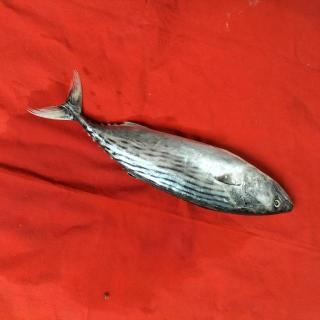Ikan: (33, 66, 299, 226)
